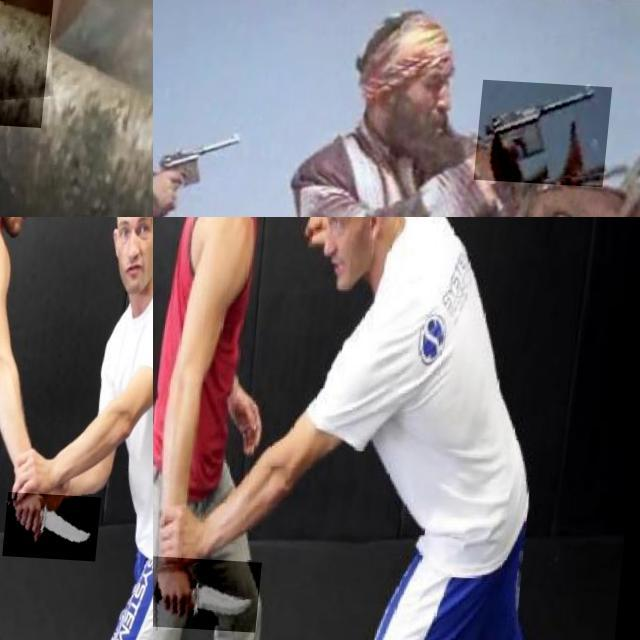-: (0, 0, 153, 170), (154, 554, 271, 630), (11, 488, 110, 556)
gun-knife-thesis - v11 Yolov5 augmented: (477, 74, 614, 180), (153, 122, 250, 217)
